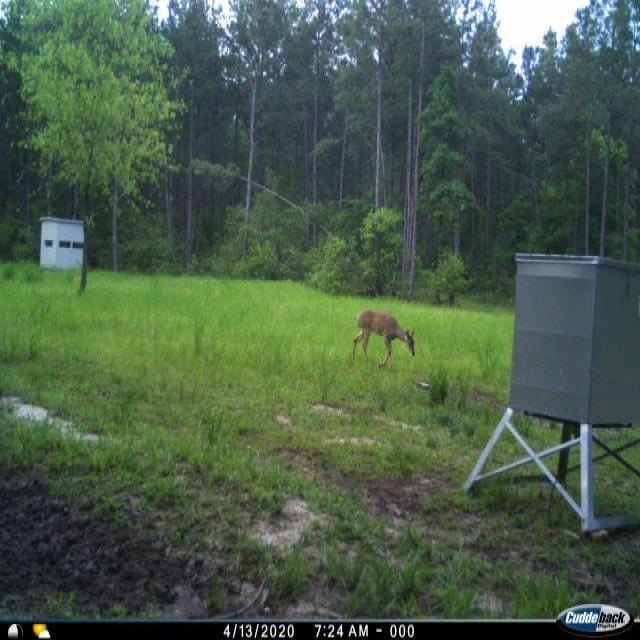deer: (346, 305, 424, 378)
